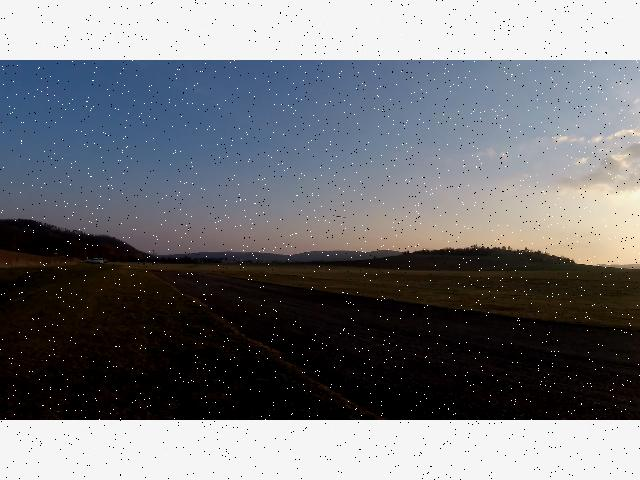Anti-Drone: (332, 214, 346, 218)
